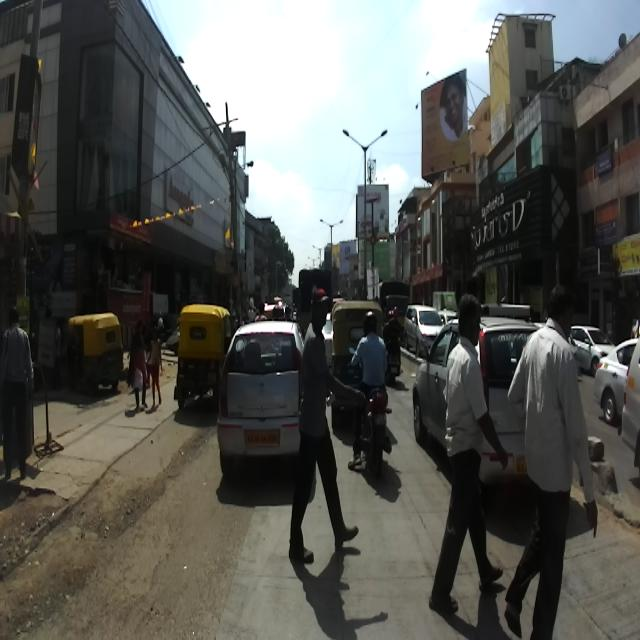car ahead at: (216, 313, 310, 504)
person ahead at: (514, 271, 601, 640), (433, 285, 507, 619), (286, 281, 357, 575)
